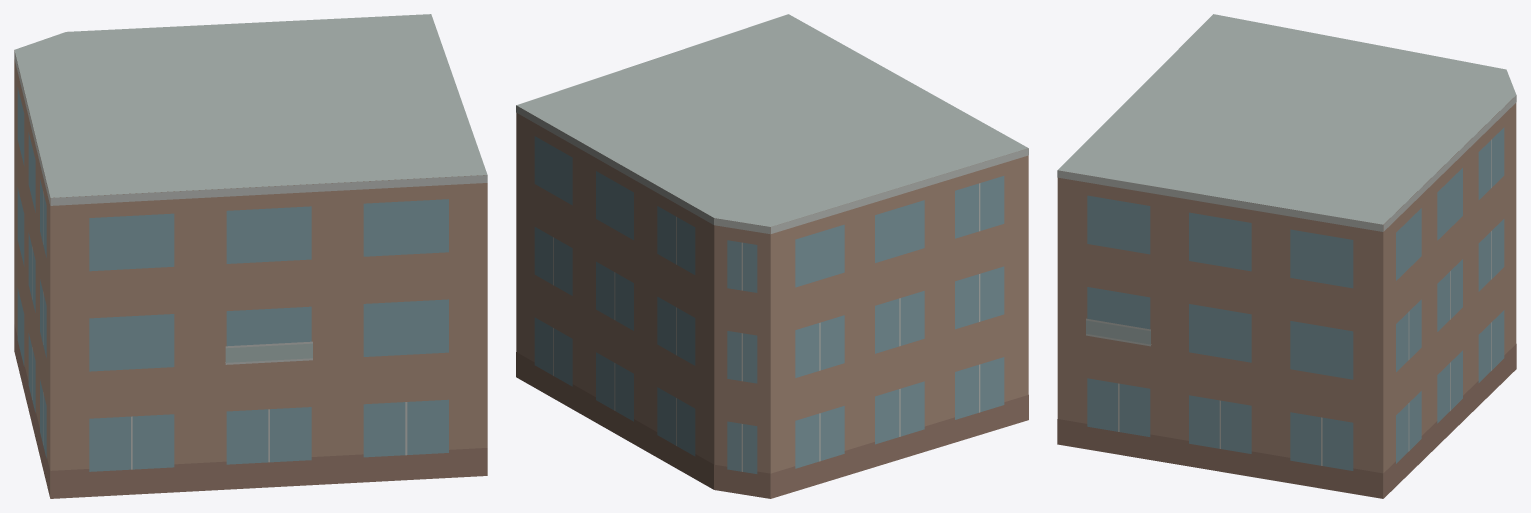
The model's file is survey-upis-32847499.glb.
3 views of the same model, side by side, from view 1: azimuth 30°, elevation 25°; view 2: azimuth 150°, elevation 25°; view 3: azimuth 270°, elevation 25° (orthographic). The views are drawn at different scales.
Visible parts, largest first — view 1: survey-upis-32847499.tmp; view 2: survey-upis-32847499.tmp; view 3: survey-upis-32847499.tmp.
Boxes of the visible parts, x1,y1,x2,y2 form: survey-upis-32847499.tmp: (14,14,487,498); survey-upis-32847499.tmp: (516,14,1028,498); survey-upis-32847499.tmp: (1057,14,1516,498).
Size of the model in its own units: 15.09 by 9.15 by 13.9.
